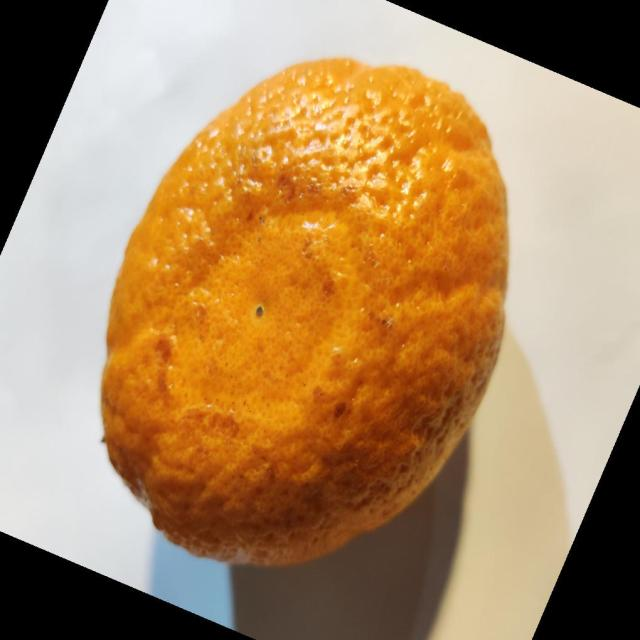fresh orange: (99, 55, 510, 567)
